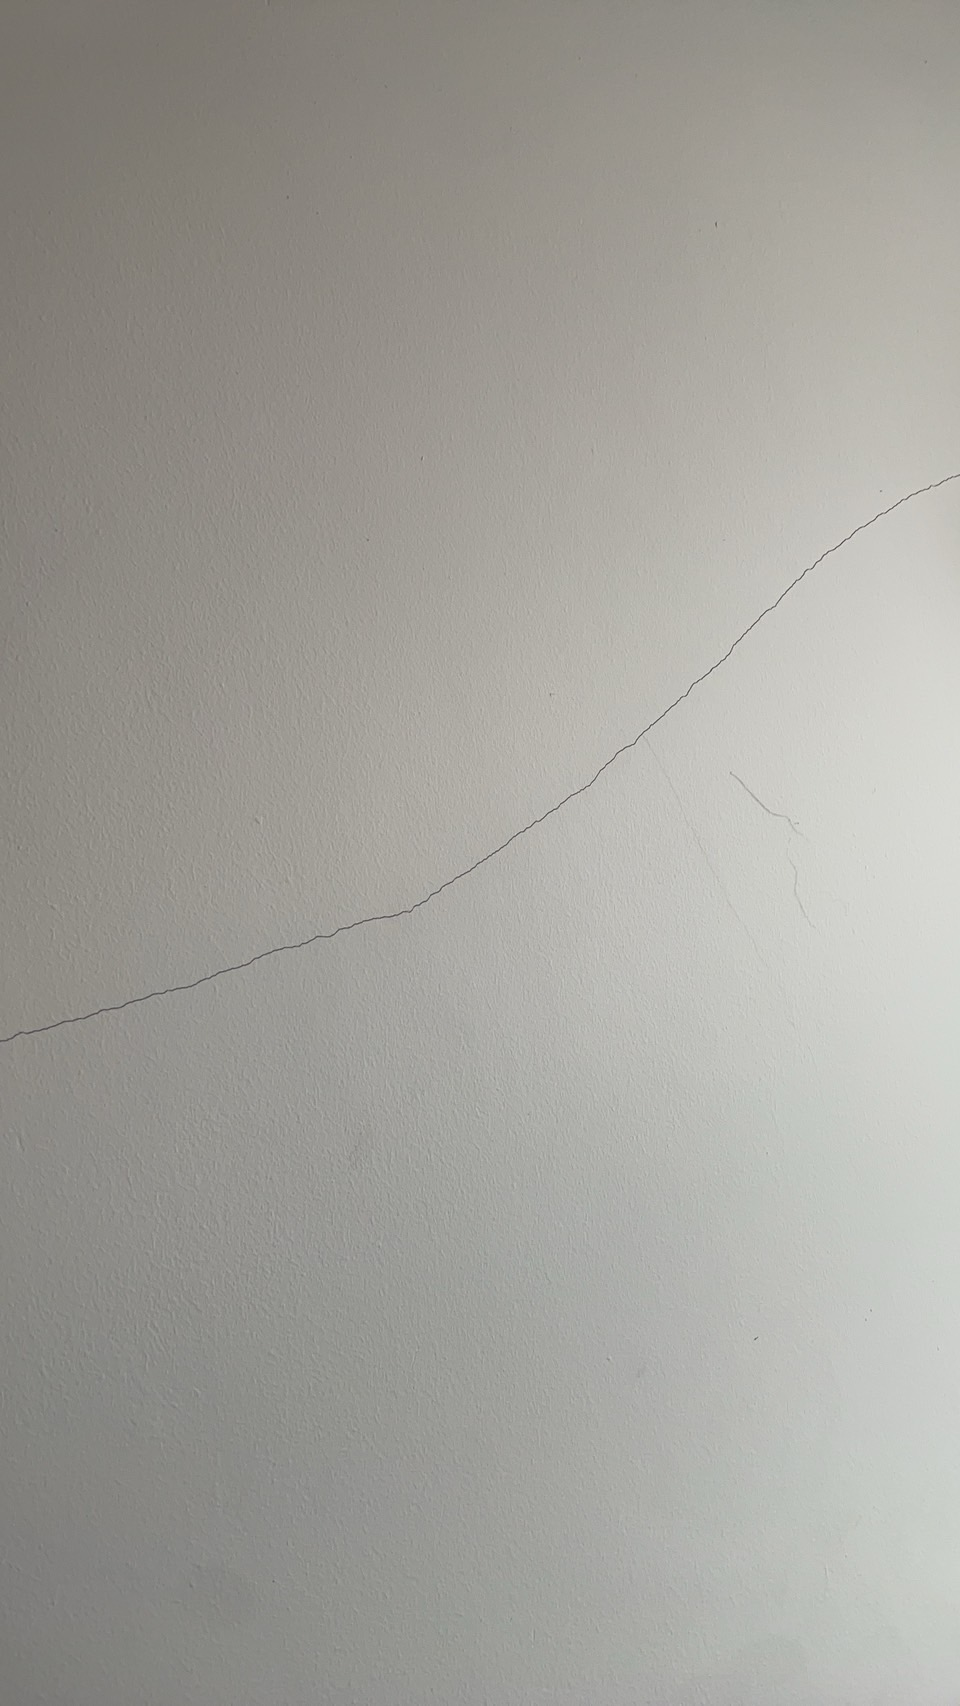Low: (2, 377, 960, 1070)
